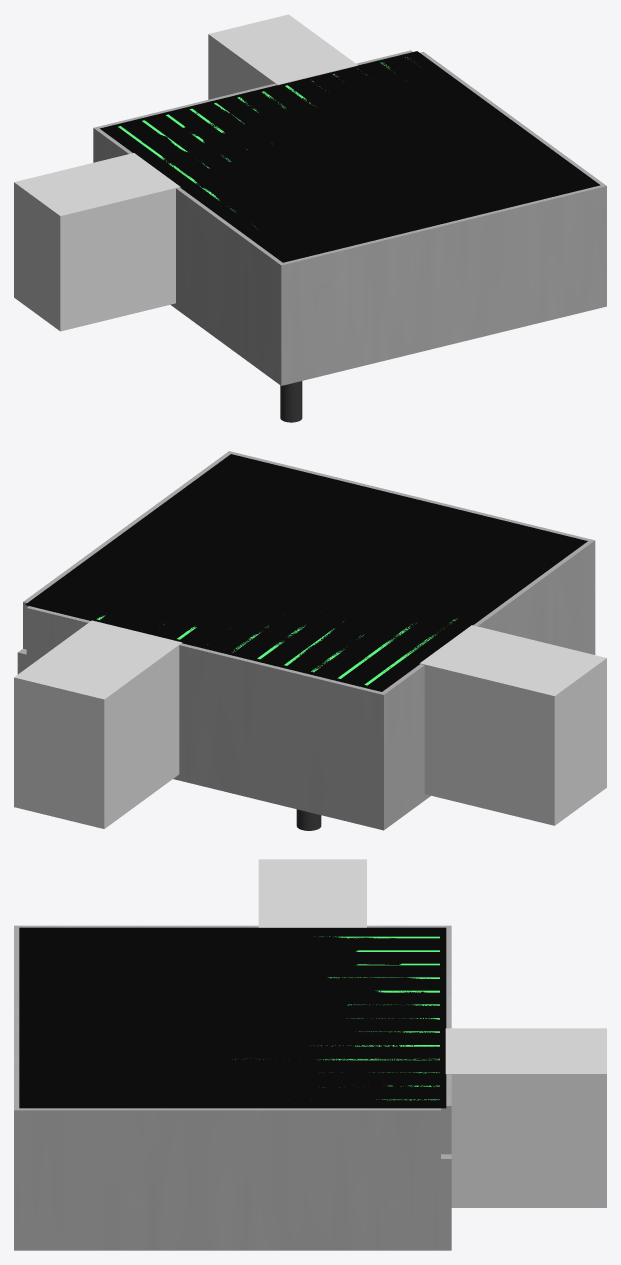
Rendered from nivel 2.fbx.
The picture shows the model from 3 angles, top to bottom: view 1: azimuth 30°, elevation 25°; view 2: azimuth 150°, elevation 25°; view 3: azimuth 270°, elevation 25°; orthographic projection. The views are drawn at different scales.
Parts seen in each view (by area): view 1: Plane.003, Cube.001, Cube, Cube.003, Plane.002, Cylinder.001; view 2: Plane.003, Cube.001, Cube, Cube.003, Plane.002; view 3: Plane.003, Cube.001, Cube.003, Cube, Plane.002.
Boxes of the visible parts, x1,y1,x2,y2 form: Plane.003: (100, 51, 600, 262); Cube.001: (93, 50, 606, 385); Cube: (14, 153, 180, 331); Cube.003: (208, 14, 357, 99); Plane.002: (118, 57, 407, 226); Cylinder.001: (280, 381, 302, 422); Plane.003: (25, 454, 587, 691); Cube.001: (17, 451, 595, 830); Cube: (419, 625, 606, 825); Cube.003: (14, 620, 182, 828); Plane.002: (96, 615, 457, 685); Plane.003: (19, 927, 446, 1108); Cube.001: (14, 925, 451, 1250); Cube.003: (445, 1028, 606, 1207); Cube: (258, 859, 366, 927); Plane.002: (259, 936, 439, 1100).
Size of the model in its own units: 2223 by 813 by 2223.
